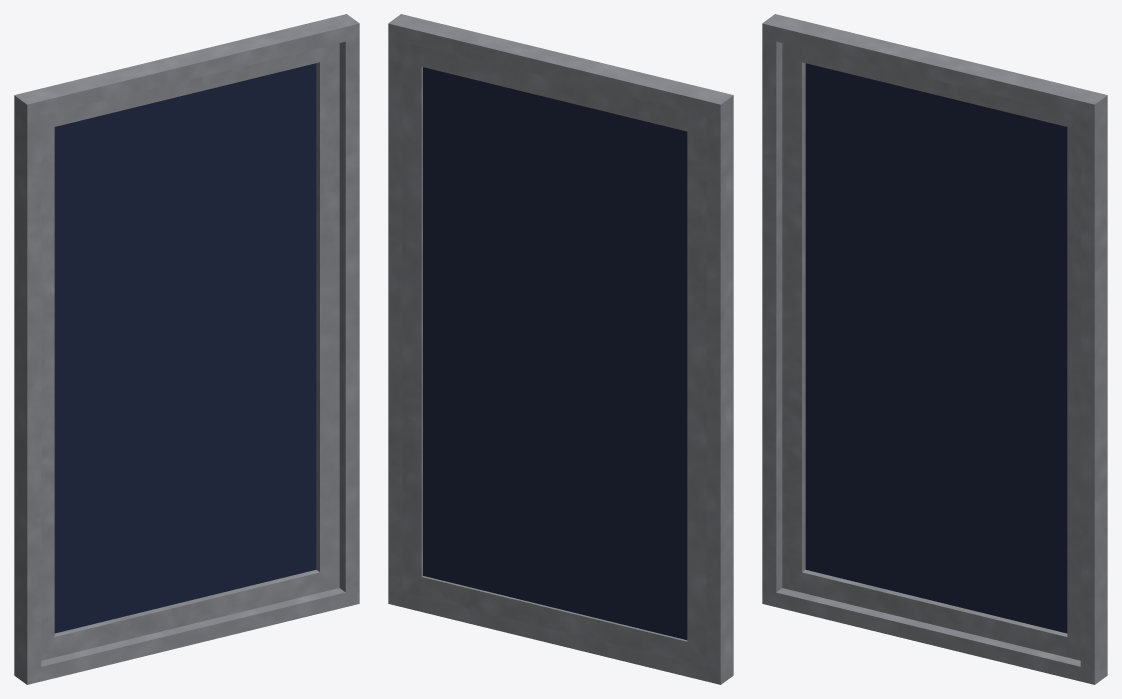
File: sb_obj_ModernCity031_window_b2.fbx
3 views of the same model, side by side, from view 1: azimuth 30°, elevation 25°; view 2: azimuth 150°, elevation 25°; view 3: azimuth 330°, elevation 25° (orthographic).
Visible parts, largest first — view 1: sb_obj_ModernCity027_window_a2; view 2: sb_obj_ModernCity027_window_a2; view 3: sb_obj_ModernCity027_window_a2.
Boxes of the visible parts, x1=… form: sb_obj_ModernCity027_window_a2: x1=14, y1=14, x2=359, y2=684; sb_obj_ModernCity027_window_a2: x1=388, y1=14, x2=733, y2=684; sb_obj_ModernCity027_window_a2: x1=762, y1=14, x2=1107, y2=684.
Size of the model in its own units: 1 by 1.67 by 0.0678.
